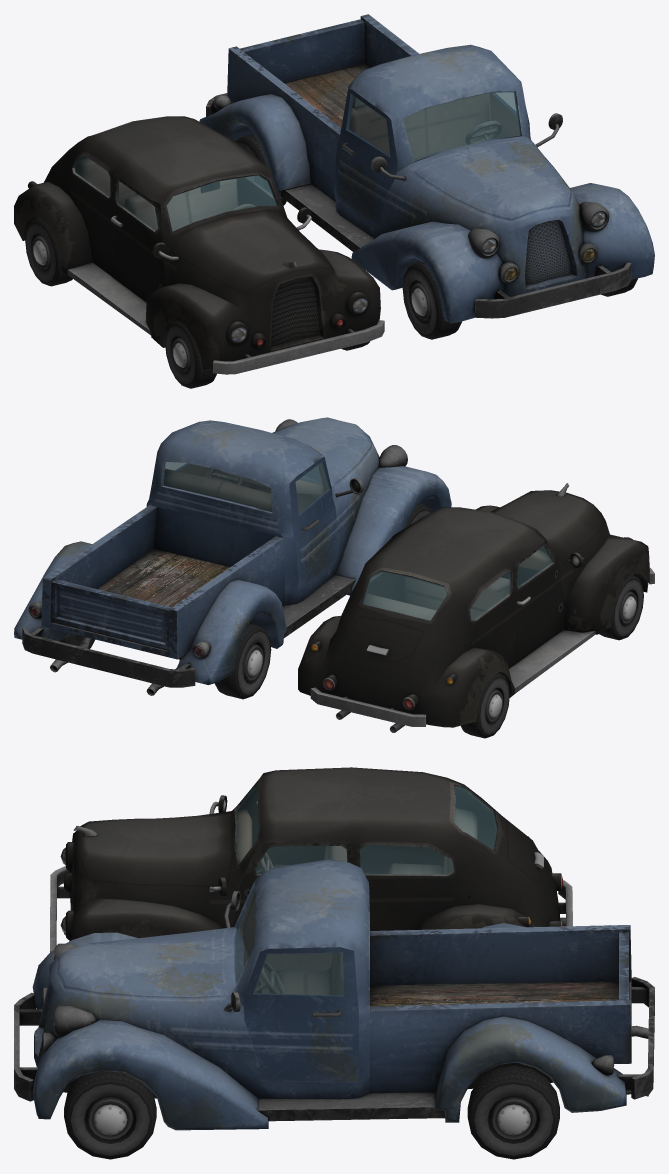
The model's file is cars.fbx.
The picture shows the model from 3 angles, top to bottom: view 1: azimuth 30°, elevation 25°; view 2: azimuth 150°, elevation 25°; view 3: azimuth 270°, elevation 25°; orthographic projection. The views are drawn at different scales.
Parts seen in each view (by area): view 1: pickup, base, window_5, R_Door, windows, R_DOOR, R_front_2, R_front, R_Back, window_3, window, L_door (+2 smaller); view 2: pickup, base, R_DOOR, windows, R_Door, window_5, R_back, R_Back, R_front, window_3, window; view 3: pickup, base, L_door, L_back_2, L_front_2, windows, window_4, R_Door, window_2, R_DOOR, window_5, L_DOOR.
Boxes of the visible parts, x1,y1,x2,y2 form: pickup: [199, 14, 654, 323]; base: [14, 116, 384, 374]; window_5: [355, 92, 520, 161]; R_Door: [333, 89, 397, 226]; windows: [74, 156, 276, 231]; R_DOOR: [110, 175, 165, 302]; R_front_2: [402, 261, 461, 339]; R_front: [165, 320, 216, 388]; R_Back: [25, 218, 72, 286]; window_3: [347, 95, 390, 155]; window: [117, 181, 157, 230]; L_door: [490, 92, 530, 139]; pickup: [14, 417, 451, 695]; base: [298, 483, 654, 732]; R_DOOR: [514, 538, 564, 664]; windows: [363, 571, 510, 620]; R_Door: [289, 457, 336, 589]; window_5: [163, 462, 320, 511]; R_back: [214, 623, 271, 699]; R_Back: [461, 672, 509, 738]; R_front: [599, 574, 643, 640]; window_3: [295, 462, 329, 515]; window: [517, 546, 552, 587]; pickup: [14, 859, 654, 1130]; base: [50, 767, 572, 951]; L_door: [244, 947, 358, 1082]; L_back_2: [467, 1066, 559, 1159]; L_front_2: [64, 1071, 156, 1159]; windows: [236, 783, 497, 874]; window_4: [254, 953, 344, 995]; R_Door: [244, 897, 333, 993]; window_2: [255, 846, 347, 874]; R_DOOR: [246, 788, 325, 874]; window_5: [234, 885, 255, 983]; L_DOOR: [232, 841, 351, 927].
Size of the model in its own units: 531 by 218 by 579.
